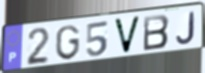2: (26, 27, 51, 67)
5: (85, 19, 110, 58)
B: (143, 13, 171, 52)
G: (54, 24, 81, 62)
J: (175, 11, 197, 46)
V: (112, 15, 142, 56)
